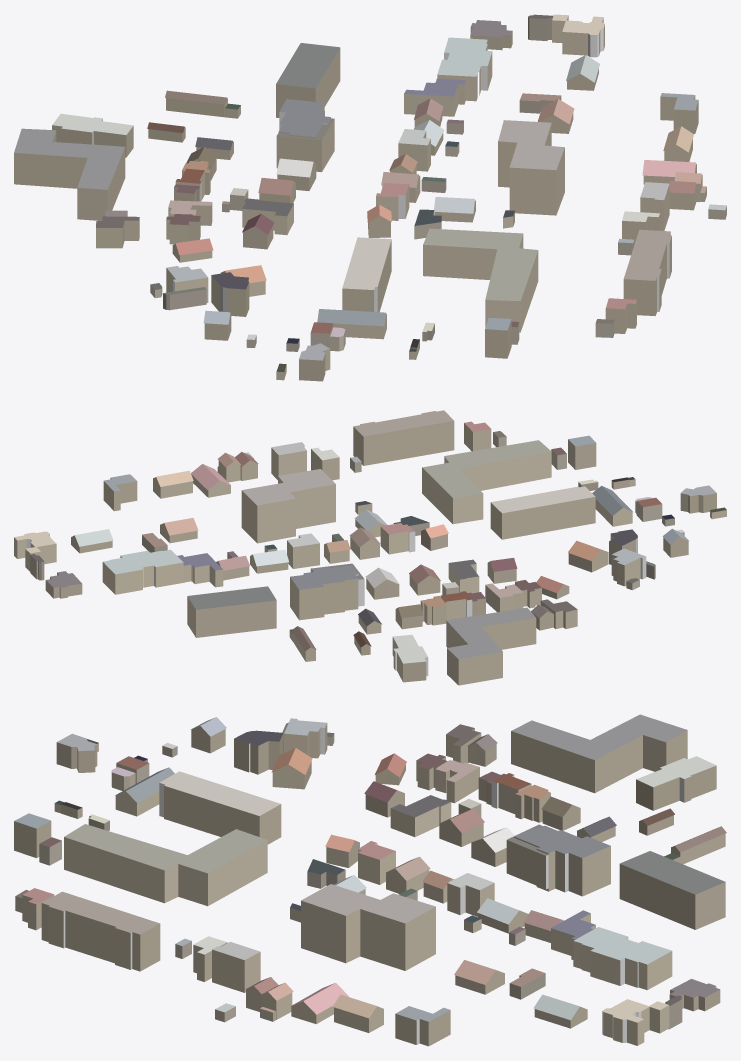
3 views of the same model, one above another, from view 1: azimuth 30°, elevation 25°; view 2: azimuth 150°, elevation 25°; view 3: azimuth 270°, elevation 25° (orthographic). The views are drawn at different scales.
Visible parts, largest first — view 1: tuile; view 2: tuile; view 3: tuile.
Part boxes in pixels (bbox=[...]): tuile: bbox=[14, 14, 726, 381]; tuile: bbox=[14, 410, 726, 685]; tuile: bbox=[14, 714, 726, 1046].
Bounding box in the file's own units: 261 × 20.92 × 254.
